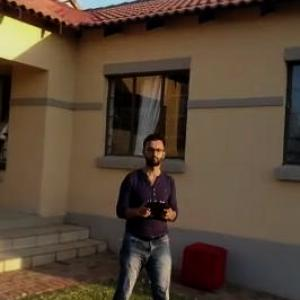follow: (106, 127, 189, 299)
